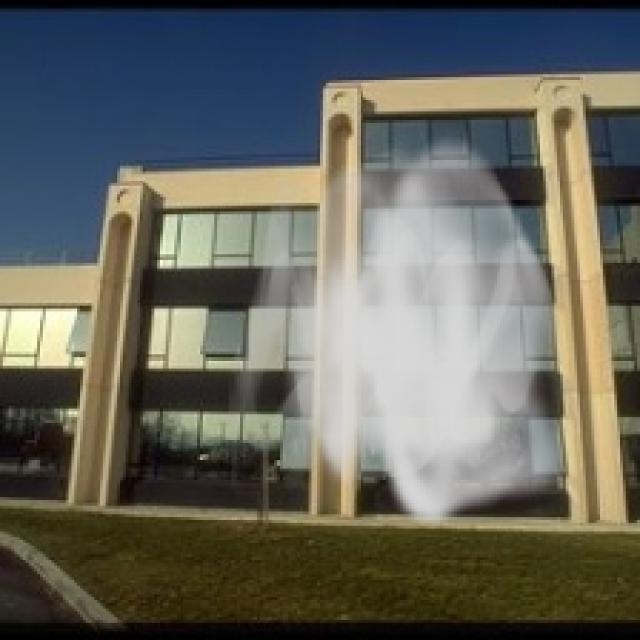Smoke: (222, 126, 574, 528)
